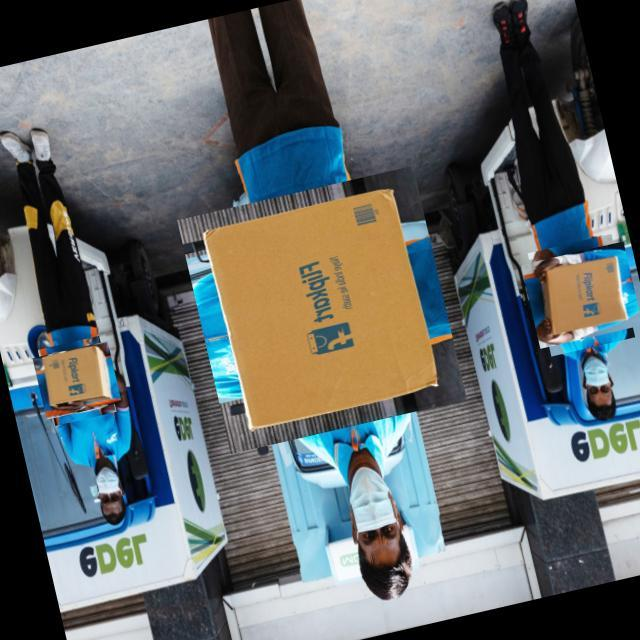cardboxes: (204, 189, 438, 429), (542, 256, 628, 342), (42, 346, 117, 408)
